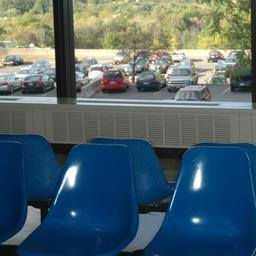Ventana: (2, 0, 252, 106)
